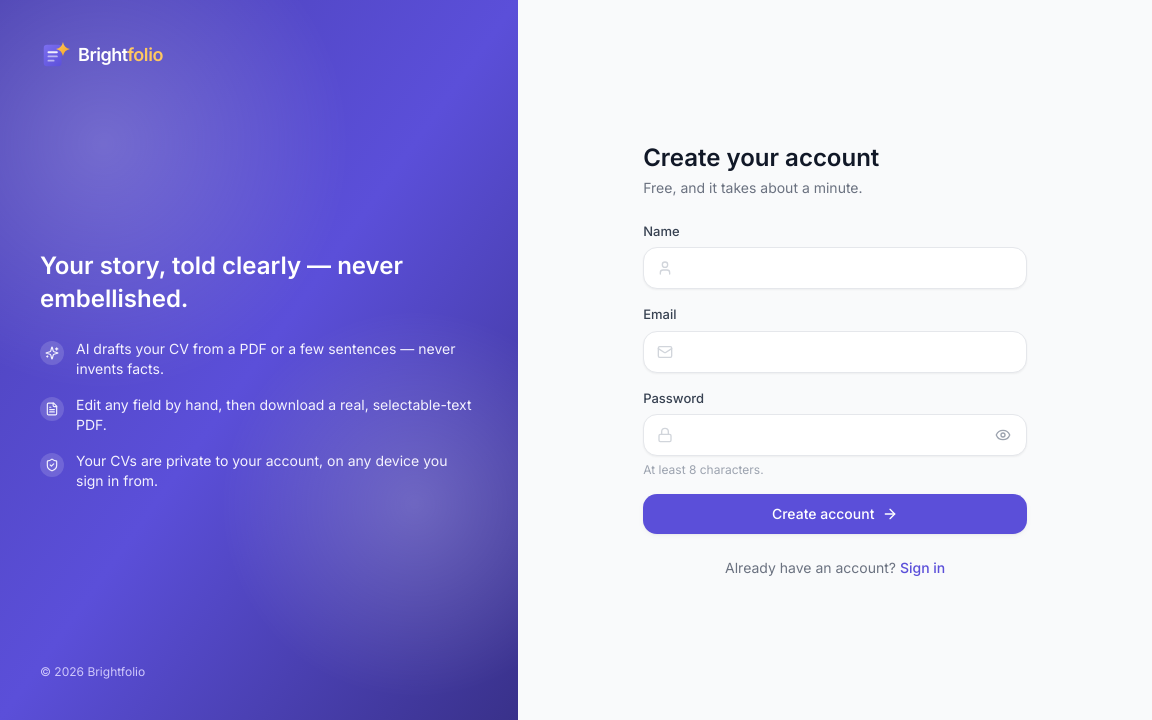
Test: SignupPage › shows the server's error message when sign-up fails
In the field labelled "Email": (835, 352) [643,331,1027,373], type "jane@example.com"
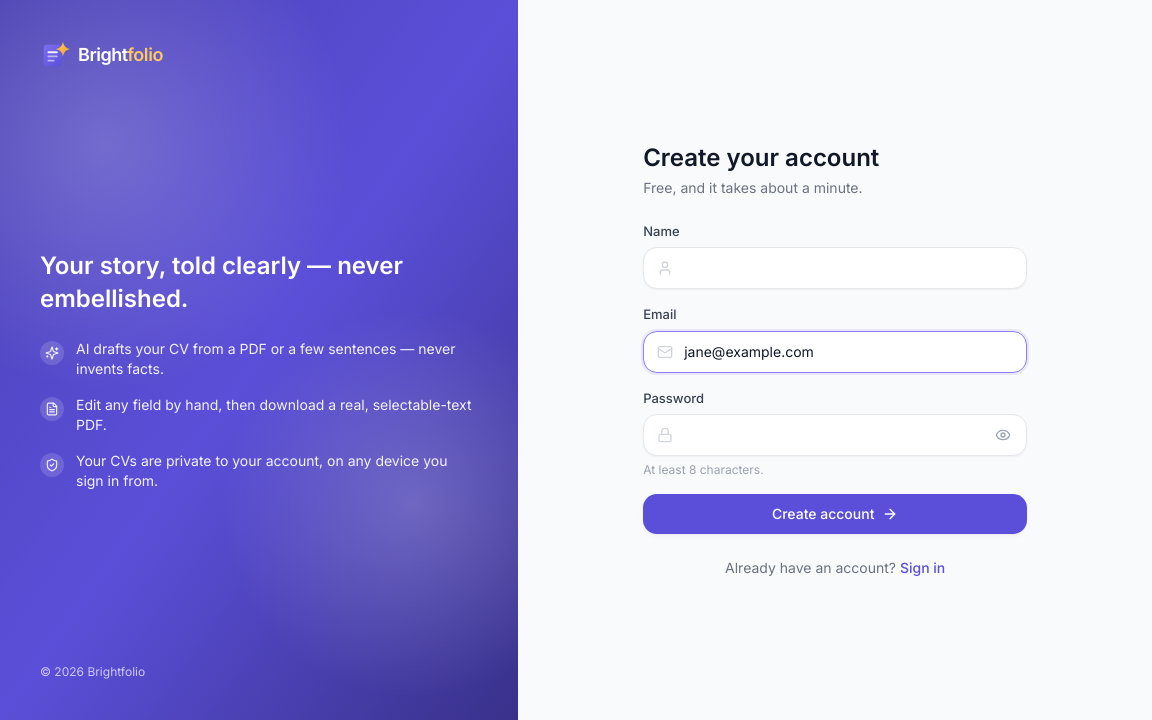
In the password field labelled "Password": (835, 435) [643,414,1027,456], type "hunter22"
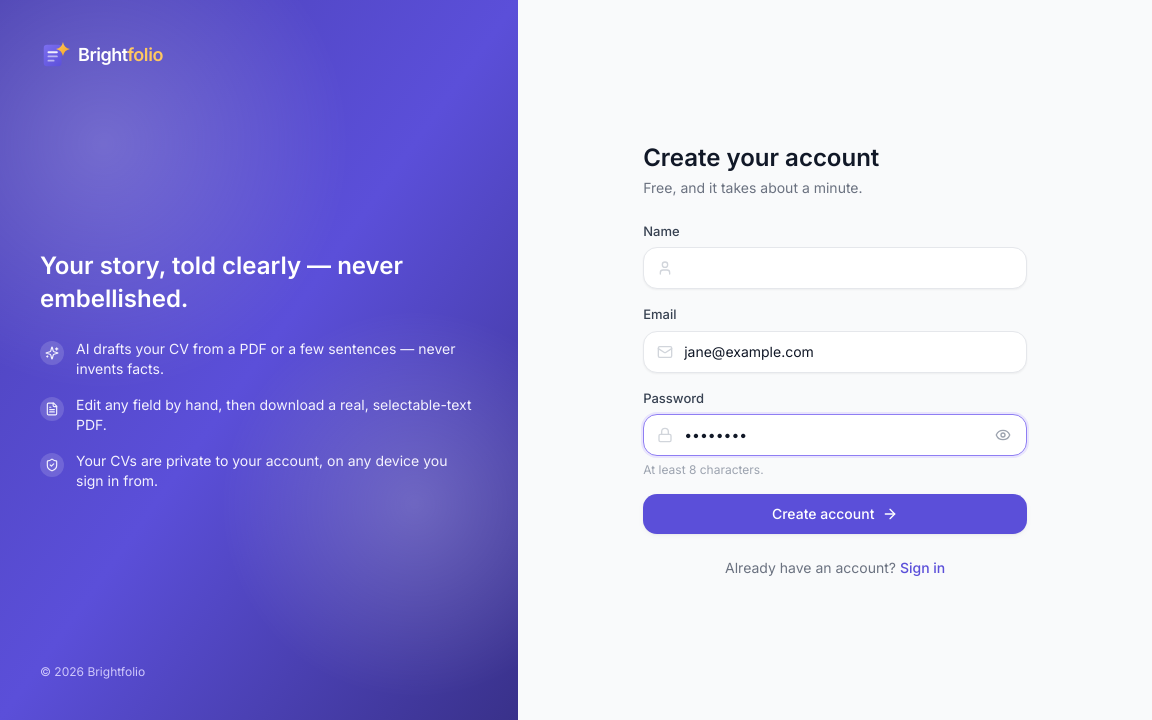
Click the button "Create account": click(835, 514) [643,494,1027,534]
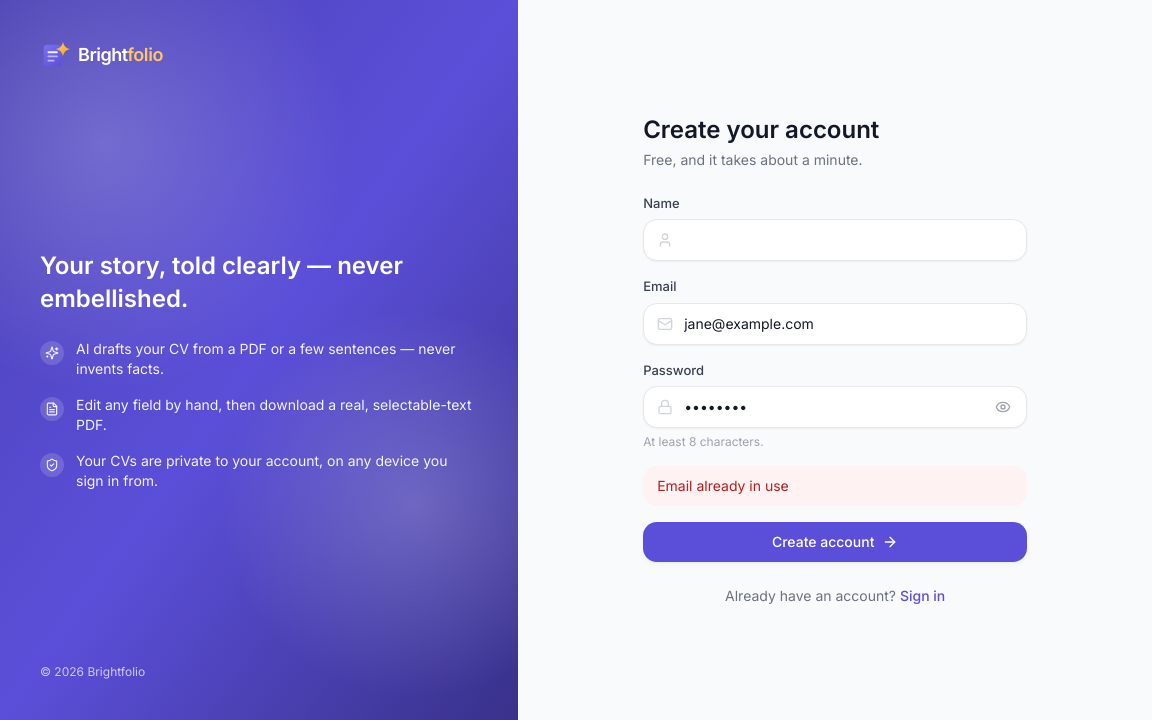
expect the text "Email already in use" is shown: met, box [643,466,1027,506]
